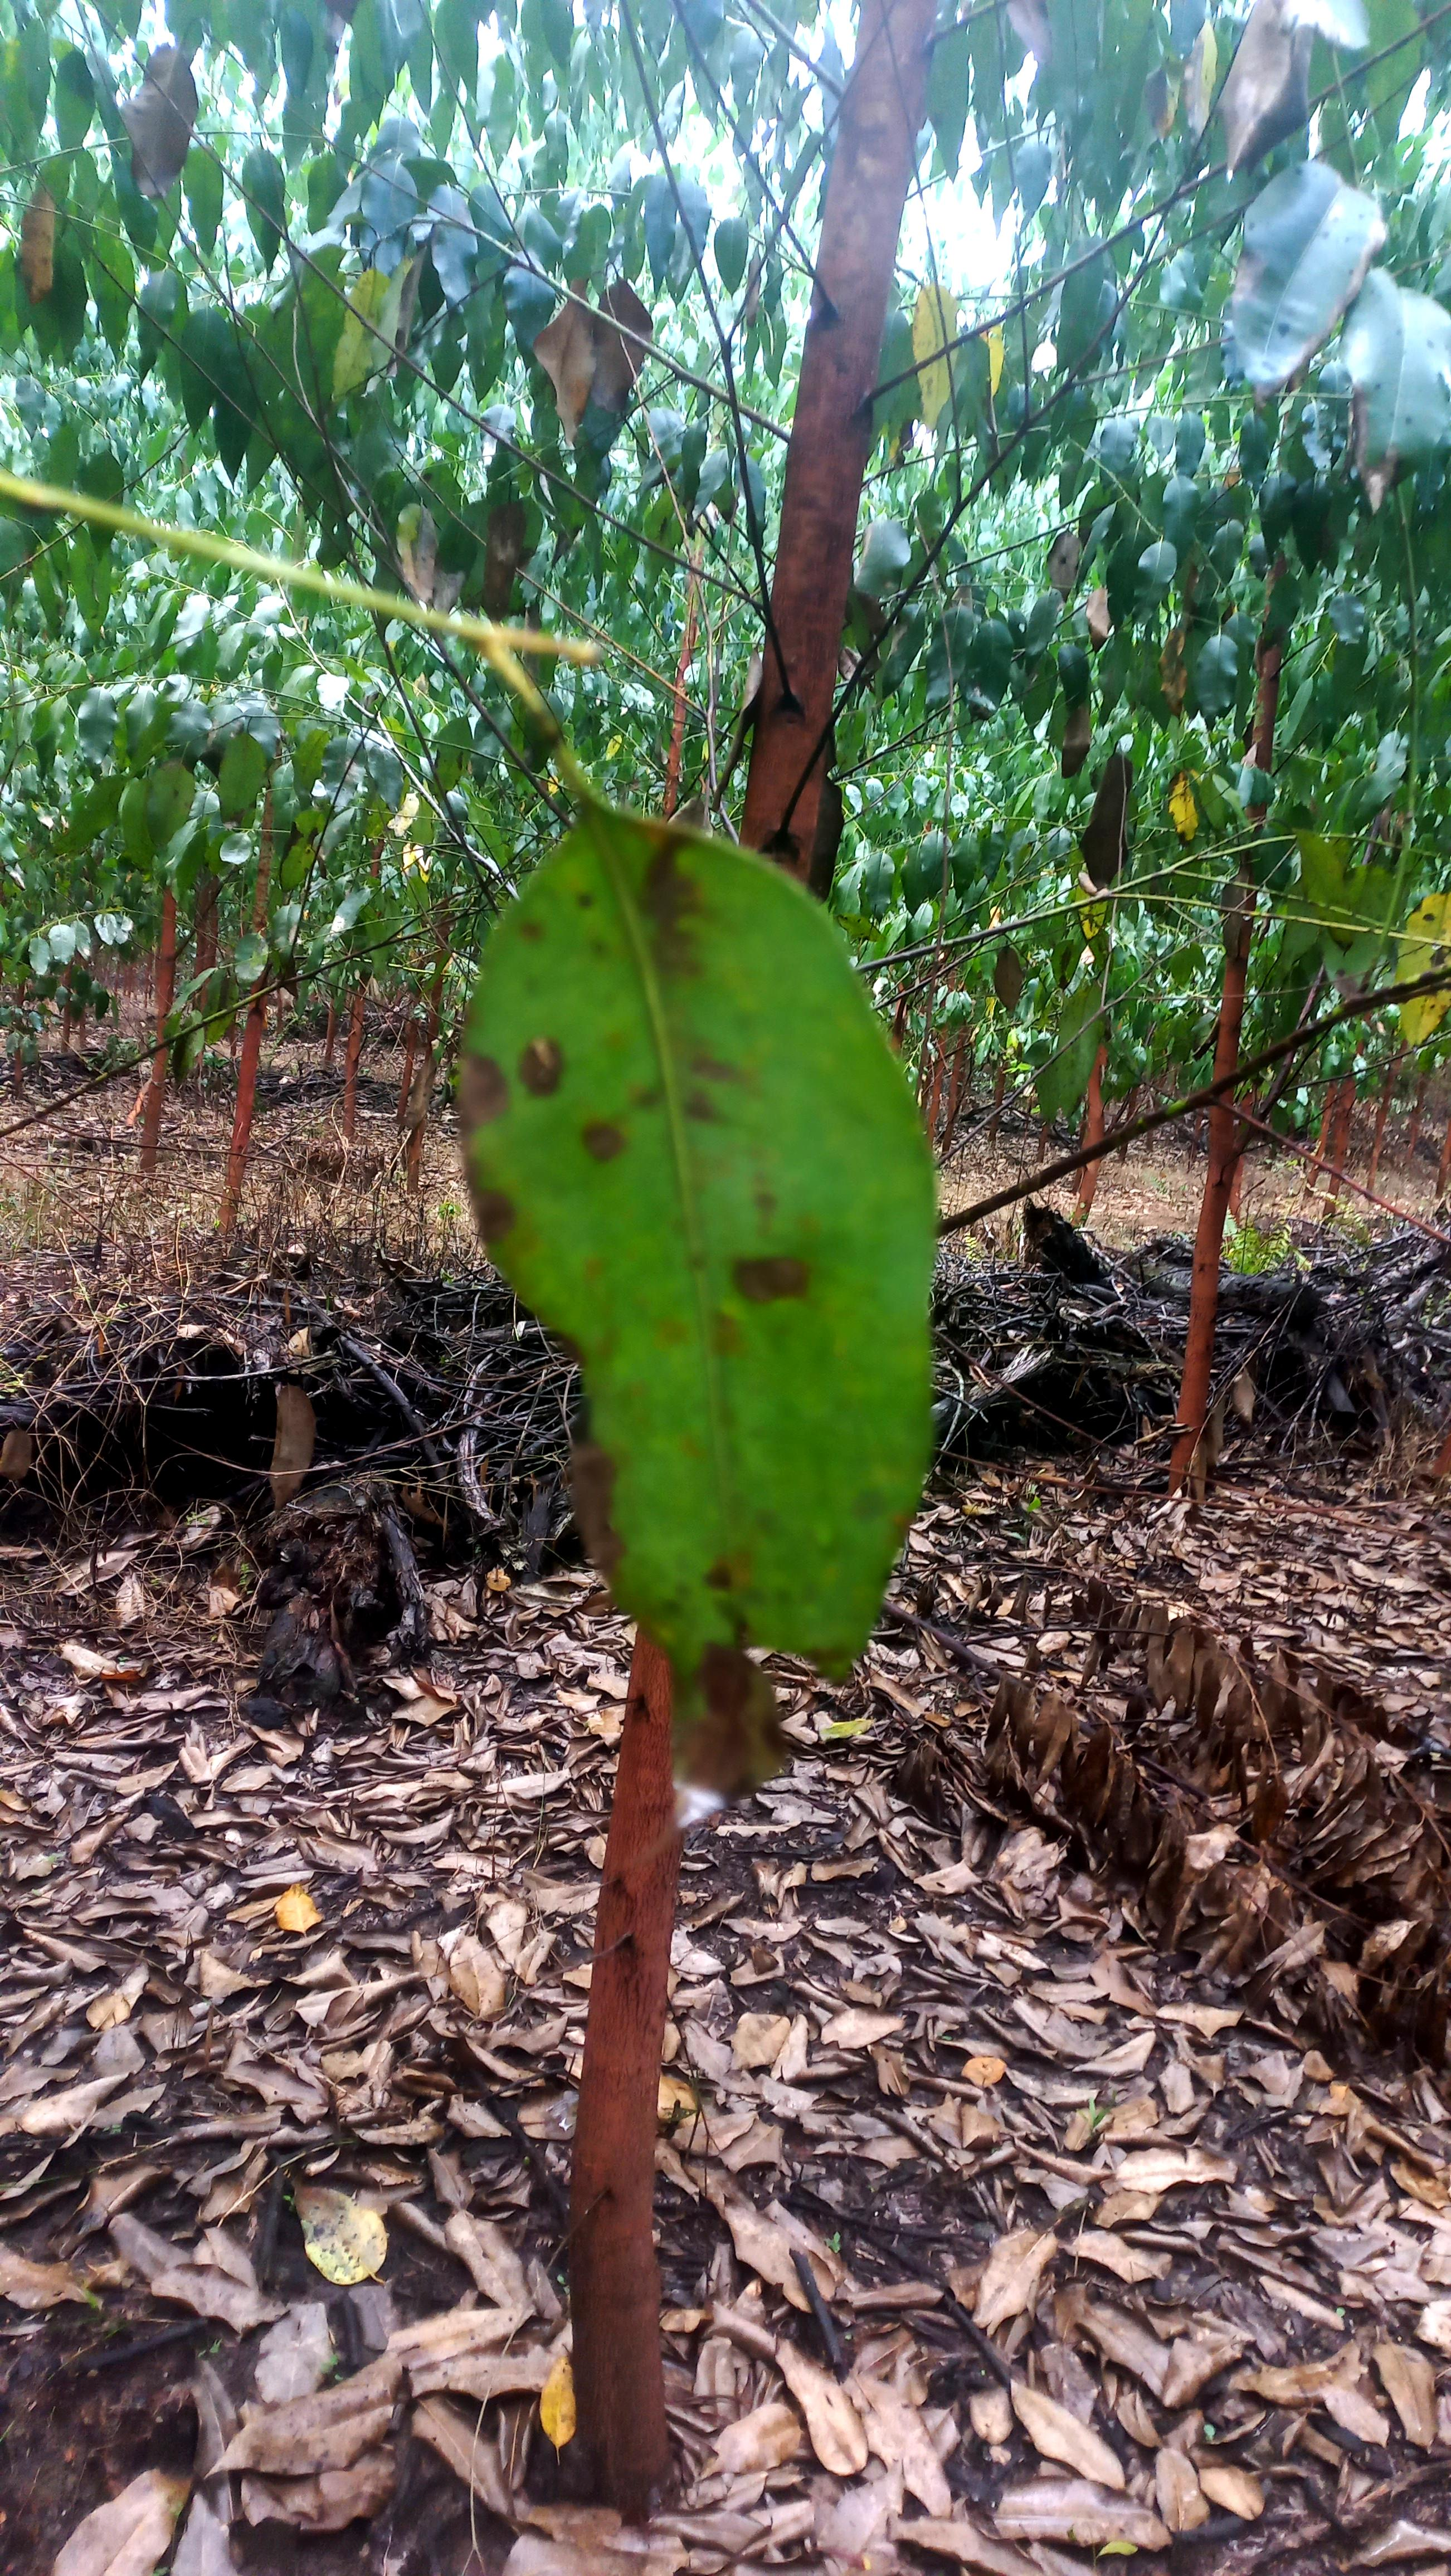Cylindrocladium: (441, 803, 938, 1810), (1161, 11, 1299, 207), (386, 492, 480, 609)
